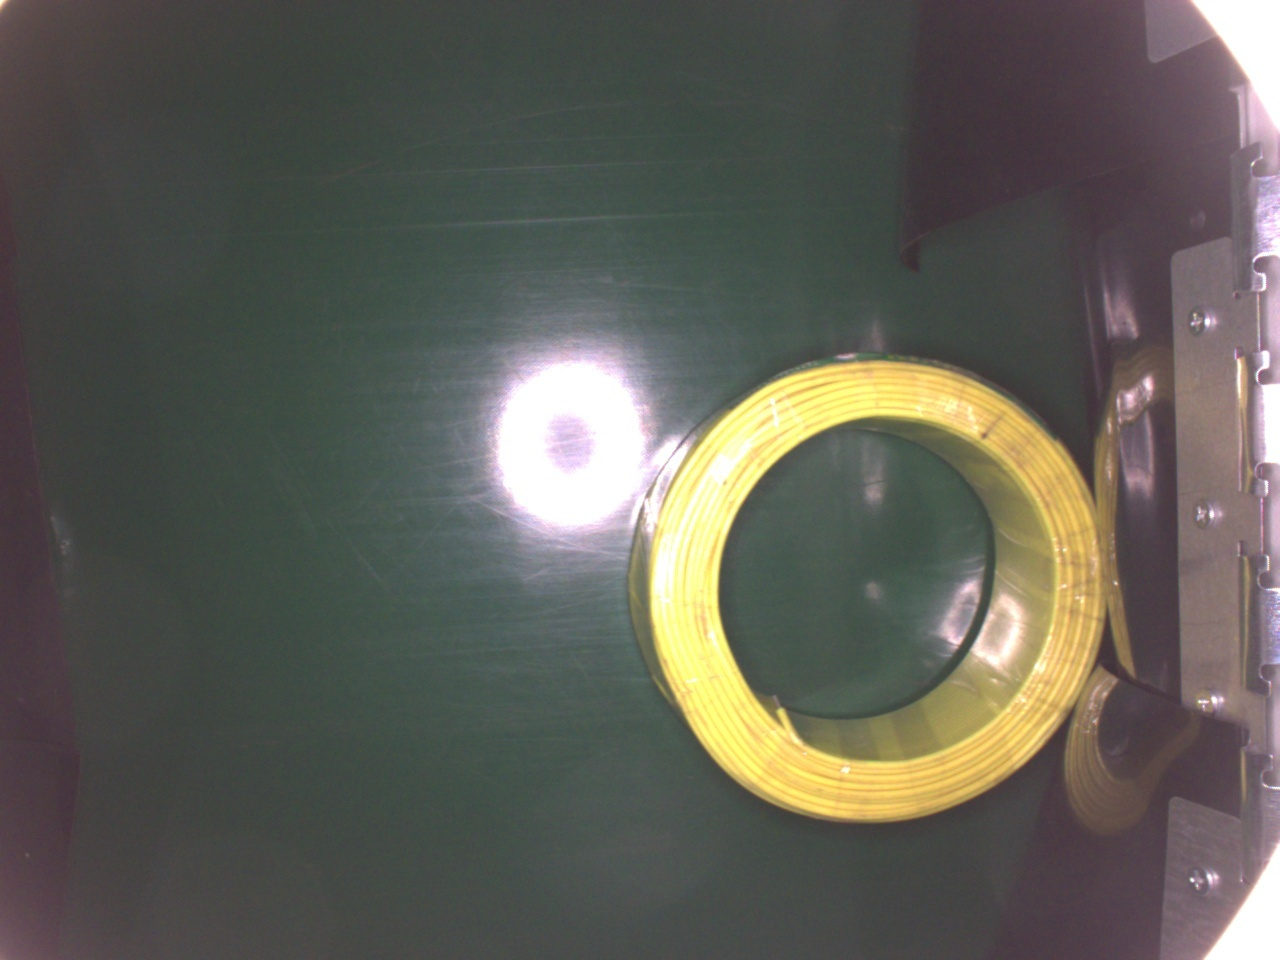yellow: (625, 345, 1098, 834)
